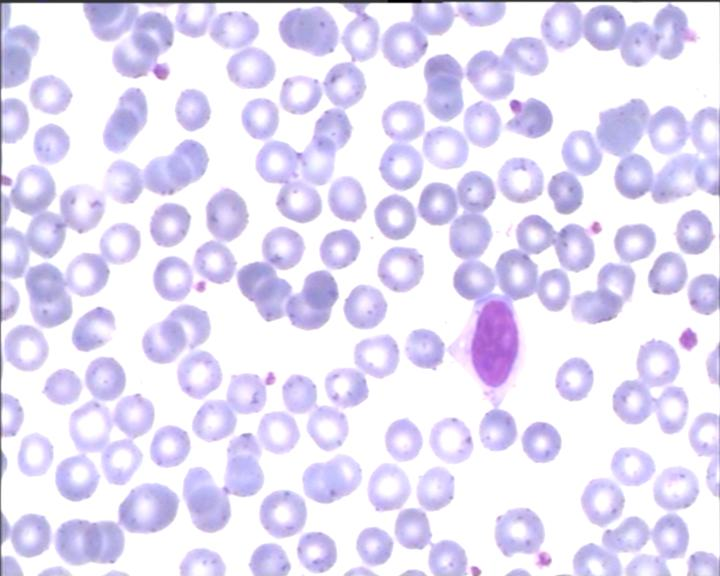mono: (446, 292, 525, 416)
